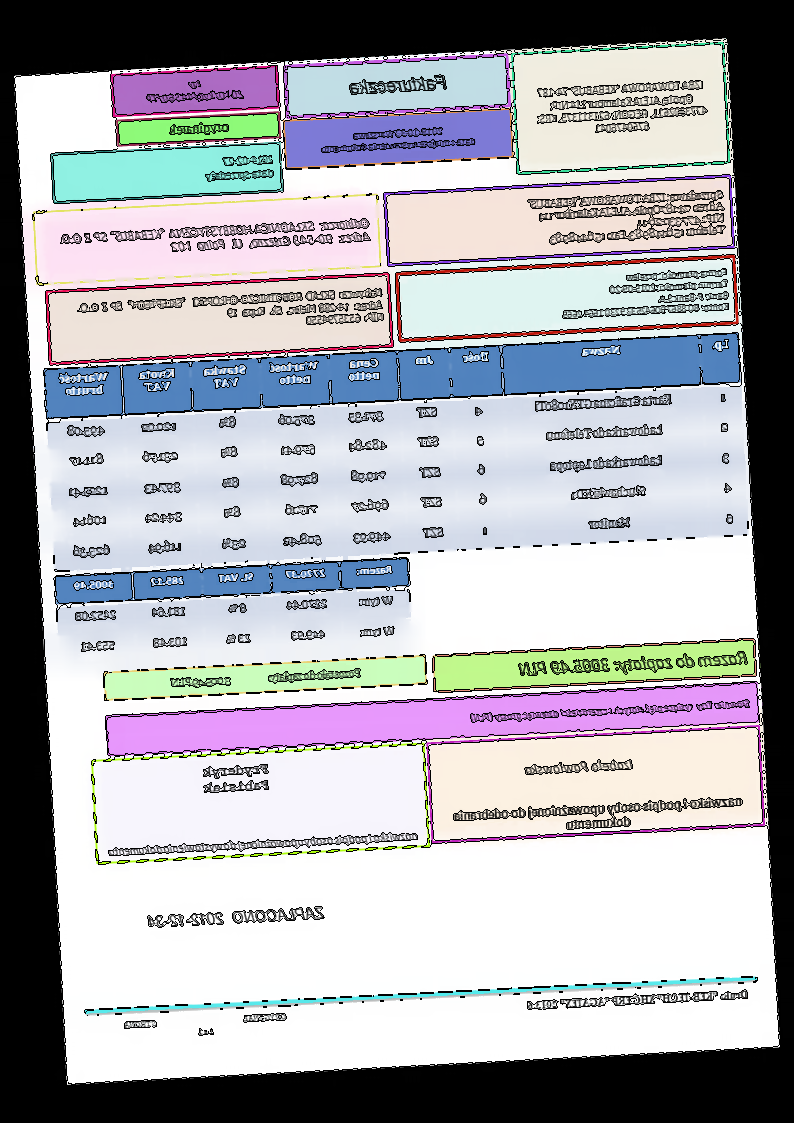Table: (43, 331, 751, 574), (52, 555, 415, 667)
TextBox: (75, 285, 385, 339), (57, 215, 374, 260), (526, 185, 728, 248), (452, 794, 745, 837), (533, 76, 711, 138), (106, 827, 421, 859), (560, 265, 732, 320), (468, 698, 752, 725), (516, 647, 749, 678), (524, 987, 752, 1014), (318, 123, 479, 157), (144, 904, 328, 932), (123, 1010, 288, 1040), (169, 666, 364, 690), (143, 75, 247, 108), (199, 761, 272, 795), (348, 73, 448, 97), (204, 153, 276, 185), (523, 757, 635, 777), (167, 119, 232, 138)
